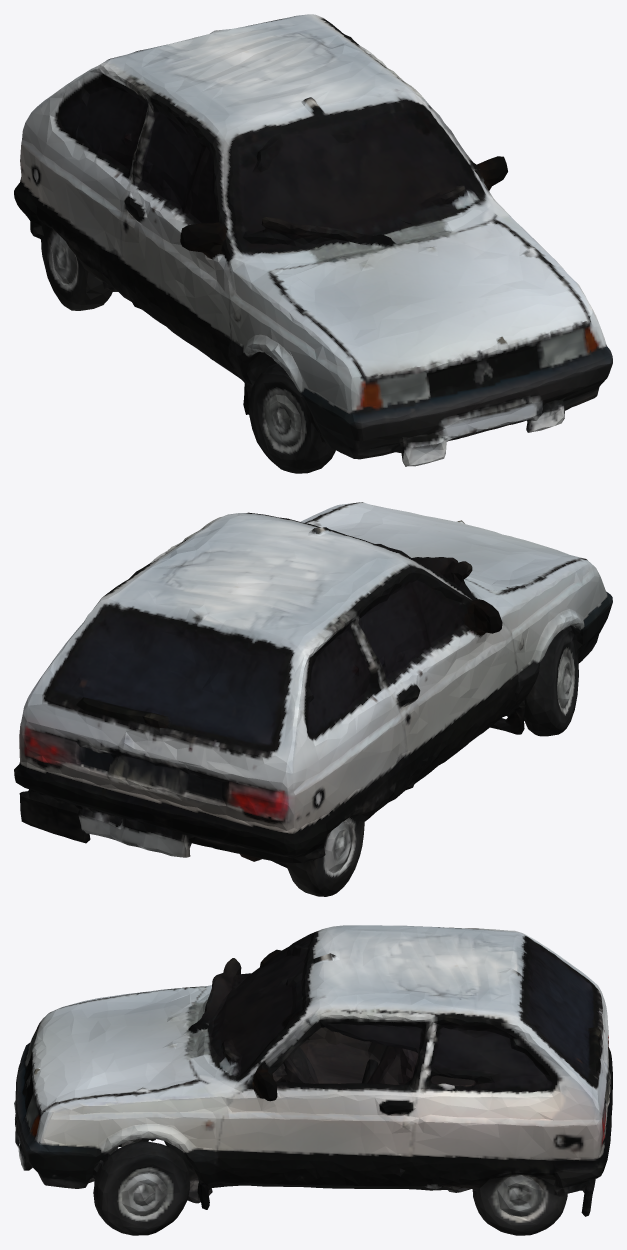
The model's file is oltcit.fbx.
3 renders of one model, top to bottom at view 1: azimuth 30°, elevation 25°; view 2: azimuth 150°, elevation 25°; view 3: azimuth 270°, elevation 25°, orthographic. The views are drawn at different scales.
Visible parts, largest first — view 1: Mesh_0; view 2: Mesh_0; view 3: Mesh_0.
Boxes of the visible parts, left/top/right/bottom form: Mesh_0: left=14, top=14, right=612, bottom=473; Mesh_0: left=14, top=502, right=612, bottom=896; Mesh_0: left=14, top=925, right=612, bottom=1235.
Size of the model in its own units: 1.85 by 1.43 by 3.44.
1 material, 1 textured.
